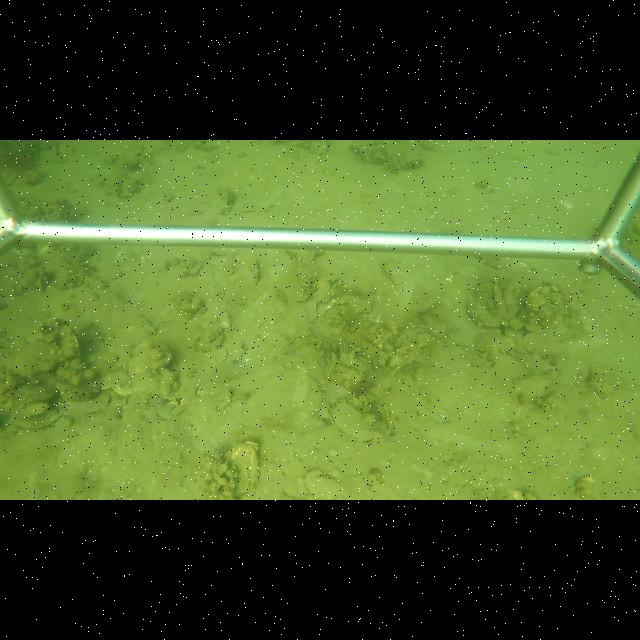Oyster-Closed: (222, 441, 262, 498), (328, 398, 376, 443), (302, 469, 348, 500), (135, 343, 174, 375), (467, 298, 505, 330), (332, 362, 368, 387), (380, 259, 407, 286), (312, 277, 332, 303), (417, 297, 440, 316), (251, 260, 262, 288), (308, 299, 320, 324), (387, 406, 397, 435), (339, 339, 347, 353)
